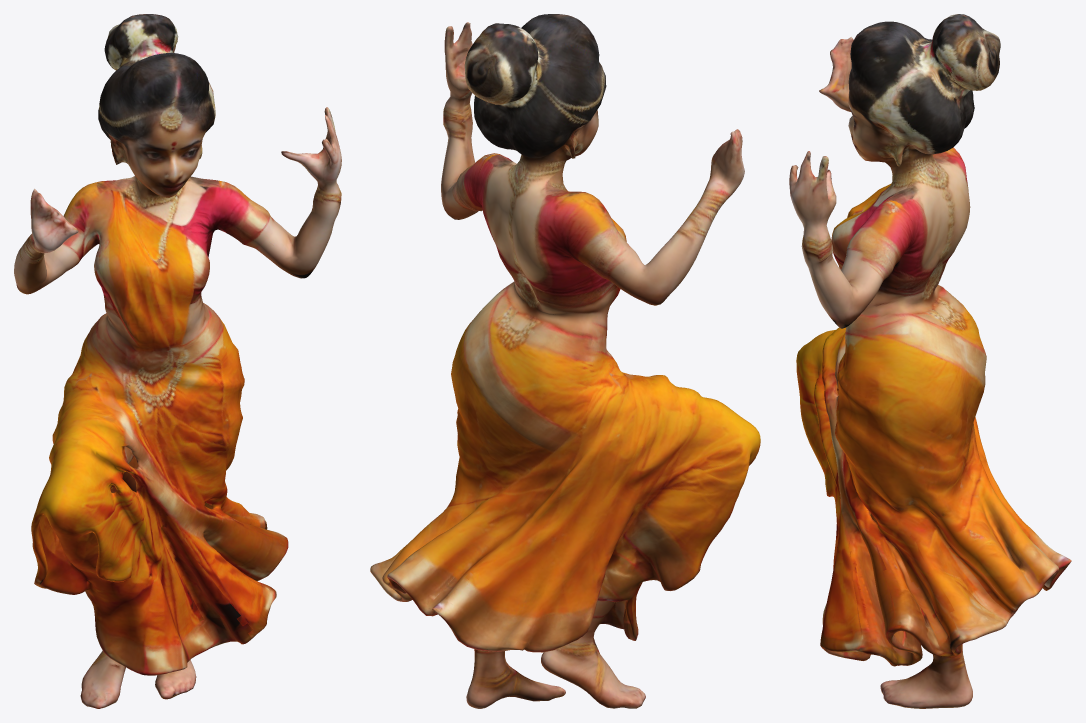
3 renders of one model, left to right at view 1: azimuth 30°, elevation 25°; view 2: azimuth 150°, elevation 25°; view 3: azimuth 270°, elevation 25°, orthographic. The views are drawn at different scales.
Visible parts, largest first — view 1: Mesh_0; view 2: Mesh_0; view 3: Mesh_0.
Boxes of the visible parts, x1=… form: Mesh_0: x1=14, y1=14, x2=341, y2=708; Mesh_0: x1=370, y1=14, x2=760, y2=708; Mesh_0: x1=789, y1=14, x2=1071, y2=708.
Size of the model in its own units: 0.9433 by 2 by 0.752.
1 material, 1 textured.
